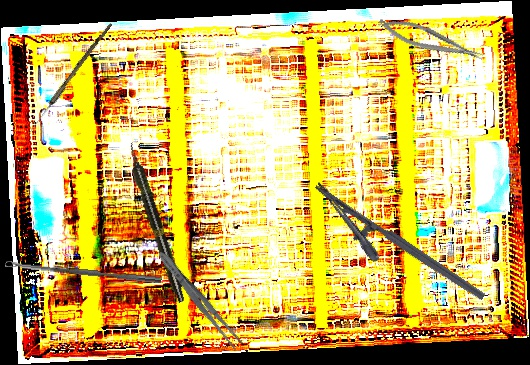Dressing Forceps: (153, 246, 246, 353)
Handpiece: (123, 140, 189, 305)
Needle Holder: (298, 180, 487, 325), (375, 10, 486, 71)
Surgical Spoon: (27, 21, 113, 135), (5, 259, 162, 284)
